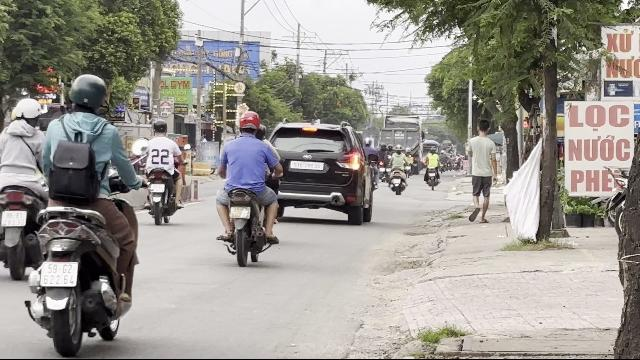helmet: (66, 74, 108, 116), (13, 97, 41, 124), (236, 111, 262, 137)
licenseplate: (41, 262, 77, 286), (1, 210, 27, 226), (230, 206, 250, 218)
motorcyclist: (22, 71, 146, 356), (211, 110, 283, 264), (0, 95, 48, 277)
